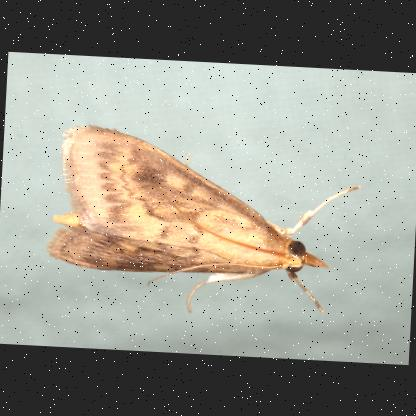Asian Corn Borer Moth: (40, 116, 365, 322)
